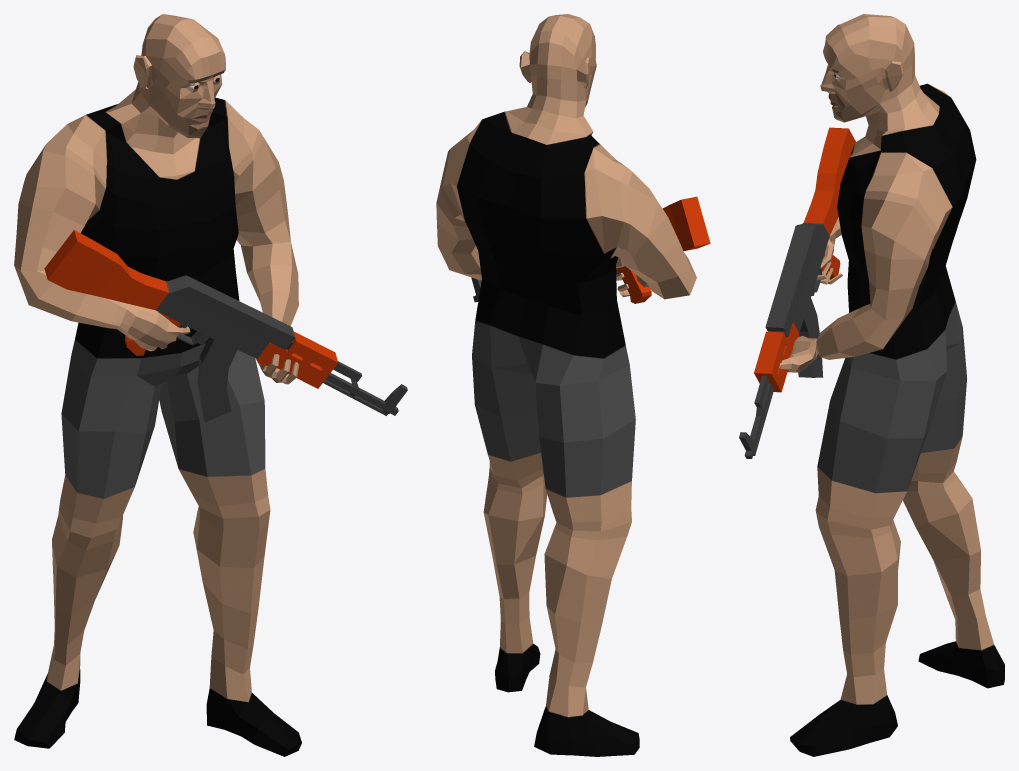
File: PlayerIdle(107).obj
3 views of the same model, side by side, from view 1: azimuth 30°, elevation 25°; view 2: azimuth 150°, elevation 25°; view 3: azimuth 270°, elevation 25° (orthographic). The views are drawn at different scales.
Parts seen in each view (by area): view 1: Plane002, Object001; view 2: Plane002, Object001; view 3: Plane002, Object001.
Part boxes in pixels (x1,y1,x2,y2): Plane002: [14, 14, 301, 756]; Object001: [44, 230, 407, 422]; Plane002: [436, 14, 696, 756]; Object001: [471, 196, 710, 303]; Plane002: [778, 14, 1004, 756]; Object001: [739, 127, 855, 458].
Size of the model in its own units: 808 by 1803 by 623.
